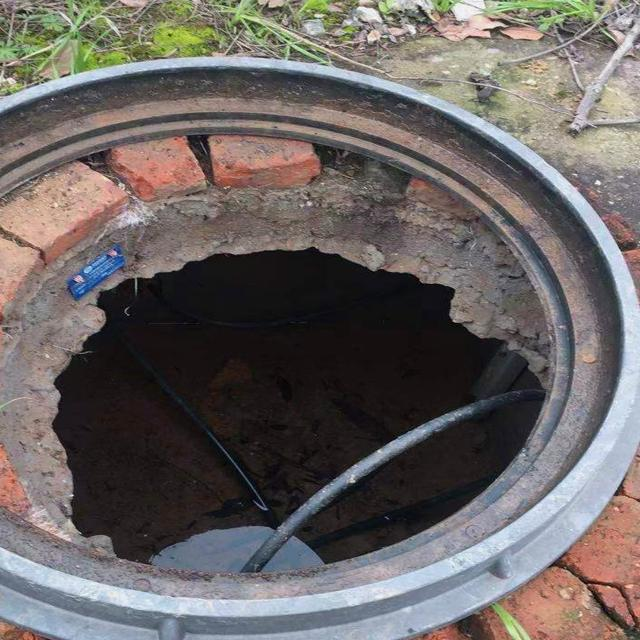lose: (0, 56, 640, 640)
